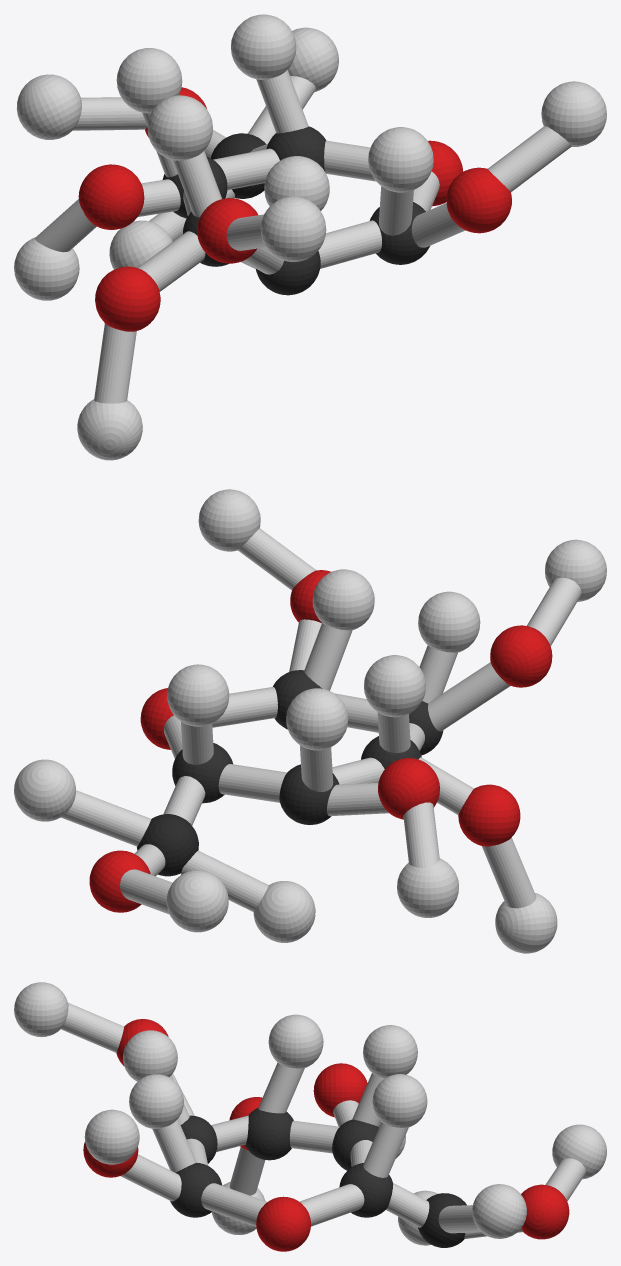
The model's file is Glucosa.dae.
The picture shows the model from 3 angles, top to bottom: view 1: azimuth 30°, elevation 25°; view 2: azimuth 150°, elevation 25°; view 3: azimuth 270°, elevation 25°; orthographic projection. The views are drawn at different scales.
Visible parts, largest first — view 1: Sphere_005, Sphere_018, Sphere_009, Sphere_010, Sphere_012, Sphere_022, Sphere_020, Sphere_003, Sphere_004, Sphere_017, Sphere_023, Sphere_021 (+28 smaller); view 2: Sphere_010, Sphere_017, Sphere_012, Sphere_009, Sphere_014, Sphere_019, Sphere_016, Sphere_005, Sphere_022, Sphere_004, Sphere_011, Sphere_021 (+33 smaller); view 3: Sphere_004, Sphere_008, Sphere_014, Sphere_005, Sphere_018, Sphere_009, Sphere_010, Sphere_017, Sphere_016, Sphere_013, Sphere_002, Sphere_012 (+27 smaller).
Boxes of the visible parts, box(x1,y1,x2,y2) form: Sphere_005: box(368, 127, 433, 192); Sphere_018: box(260, 196, 326, 261); Sphere_009: box(147, 95, 212, 160); Sphere_010: box(231, 14, 296, 79); Sphere_012: box(16, 74, 81, 139); Sphere_022: box(95, 266, 160, 331); Sphere_020: box(78, 164, 144, 229); Sphere_003: box(446, 167, 511, 233); Sphere_004: box(541, 81, 606, 146); Sphere_017: box(116, 48, 182, 113); Sphere_023: box(77, 399, 142, 460); Sphere_021: box(14, 237, 79, 300); Sphere_010: box(167, 664, 229, 726); Sphere_017: box(286, 688, 348, 750); Sphere_012: box(166, 870, 228, 932); Sphere_009: box(364, 655, 425, 717); Sphere_014: box(14, 759, 75, 821); Sphere_019: box(490, 625, 552, 687); Sphere_016: box(418, 591, 480, 652); Sphere_005: box(312, 569, 374, 630); Sphere_022: box(458, 784, 520, 846); Sphere_004: box(198, 489, 260, 551); Sphere_011: box(253, 881, 315, 942); Sphere_021: box(397, 858, 458, 917); Sphere_004: box(84, 1109, 139, 1164); Sphere_008: box(256, 1196, 310, 1251); Sphere_014: box(472, 1184, 526, 1238); Sphere_005: box(129, 1074, 183, 1128); Sphere_018: box(14, 982, 68, 1037); Sphere_009: box(268, 1014, 323, 1068); Sphere_010: box(372, 1074, 427, 1128); Sphere_017: box(363, 1025, 417, 1078); Sphere_016: box(123, 1030, 177, 1081); Sphere_013: box(521, 1184, 569, 1239); Sphere_002: box(245, 1108, 293, 1160); Sphere_012: box(552, 1124, 606, 1179).
Bounding box in the file's own units: 6.72 × 9.26 × 4.81.
